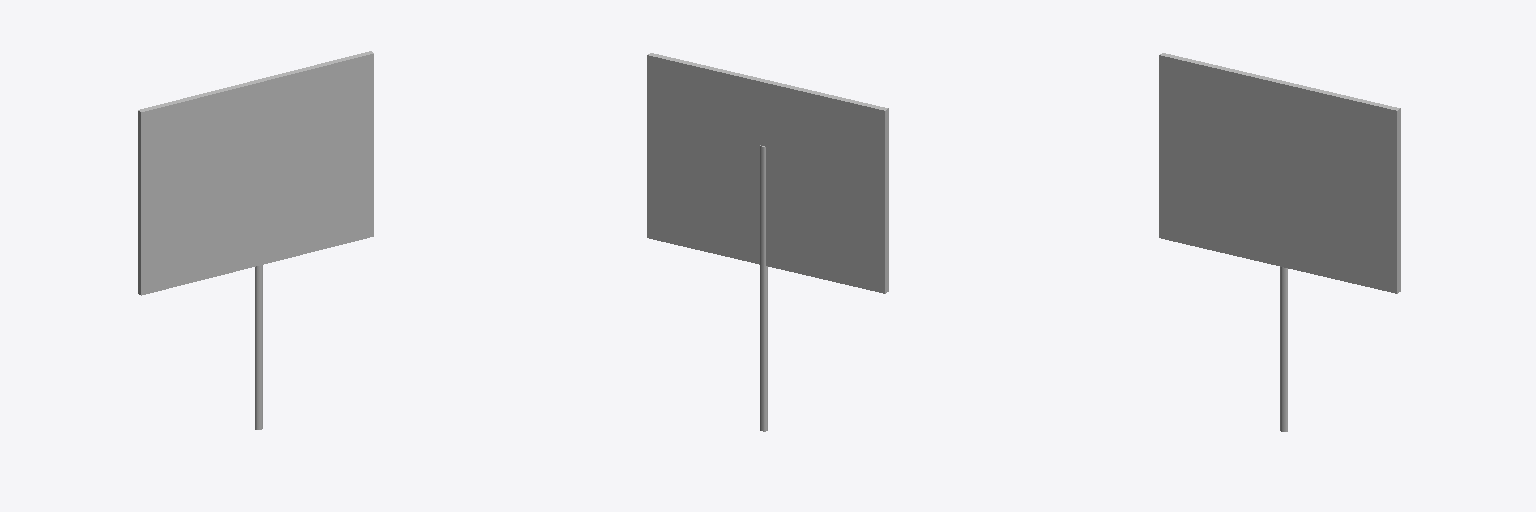
Rendered from board_7.obj.
The picture shows the model from 3 angles: view 1: azimuth 30°, elevation 25°; view 2: azimuth 150°, elevation 25°; view 3: azimuth 330°, elevation 25°; orthographic projection.
Parts seen in each view (by area): view 1: Cube.021_Cube.022, Cylinder.021; view 2: Cube.021_Cube.022, Cylinder.021; view 3: Cube.021_Cube.022, Cylinder.021.
Part boxes in pixels (x1,y1,x2,y2): Cube.021_Cube.022: (138, 51, 373, 295); Cylinder.021: (255, 265, 262, 429); Cube.021_Cube.022: (647, 53, 888, 293); Cylinder.021: (760, 145, 767, 431); Cube.021_Cube.022: (1159, 53, 1400, 293); Cylinder.021: (1280, 267, 1287, 431).
Size of the model in its own units: 0.2191 by 0.3097 by 0.0092.